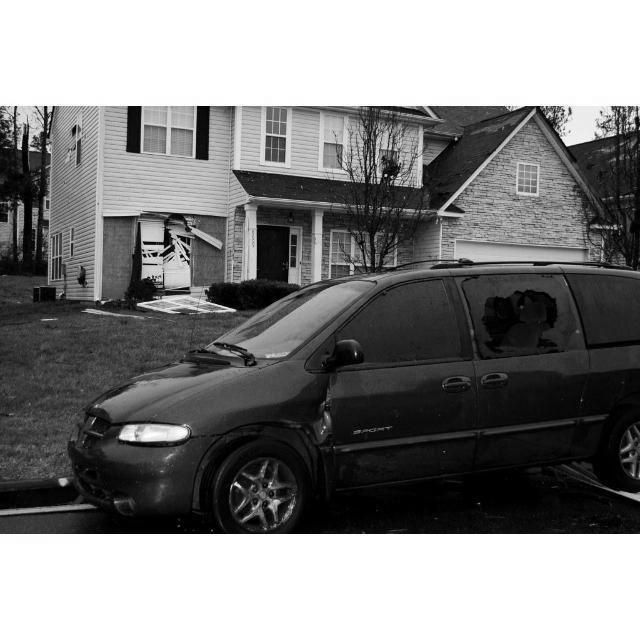bonnet-dent: (81, 361, 235, 403)
doorouter-dent: (459, 270, 592, 452)
fender-dent: (165, 364, 331, 466)
